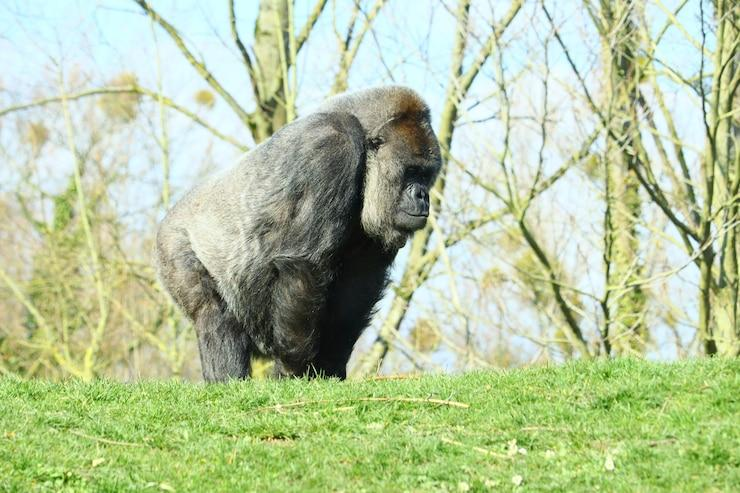gorille_Autres: (134, 59, 486, 414)
